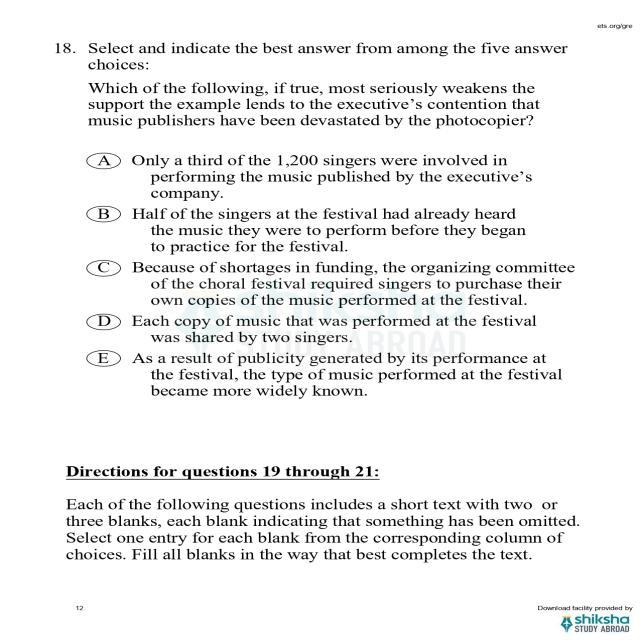Answer_Block: (24, 146, 604, 427)
Instruction: (24, 456, 604, 580)
Question_Answer_Block: (24, 25, 604, 428)
Question_Block: (24, 25, 604, 142)
Question_Paper_Area: (24, 24, 604, 580)
